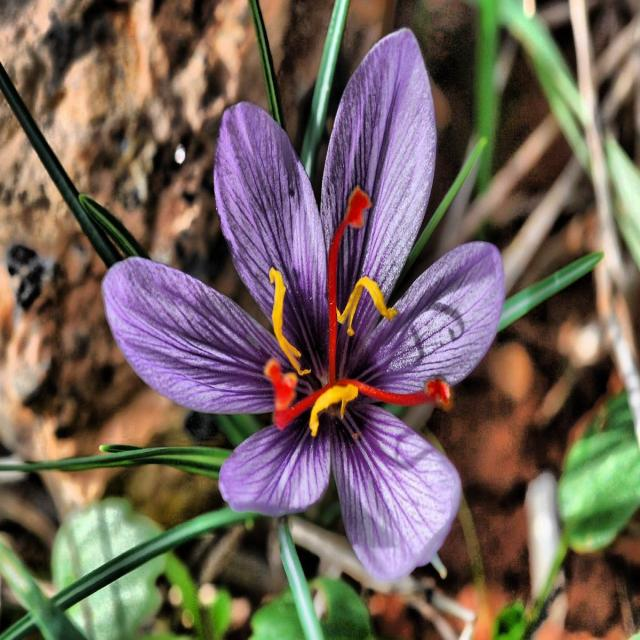Flower: (97, 22, 504, 589)
stigma: (326, 185, 373, 386), (264, 354, 338, 431), (341, 373, 454, 409)
